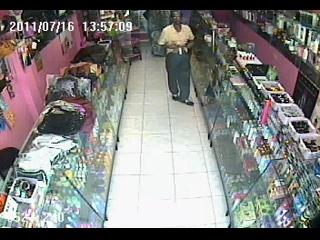Normal: (157, 11, 195, 106)
